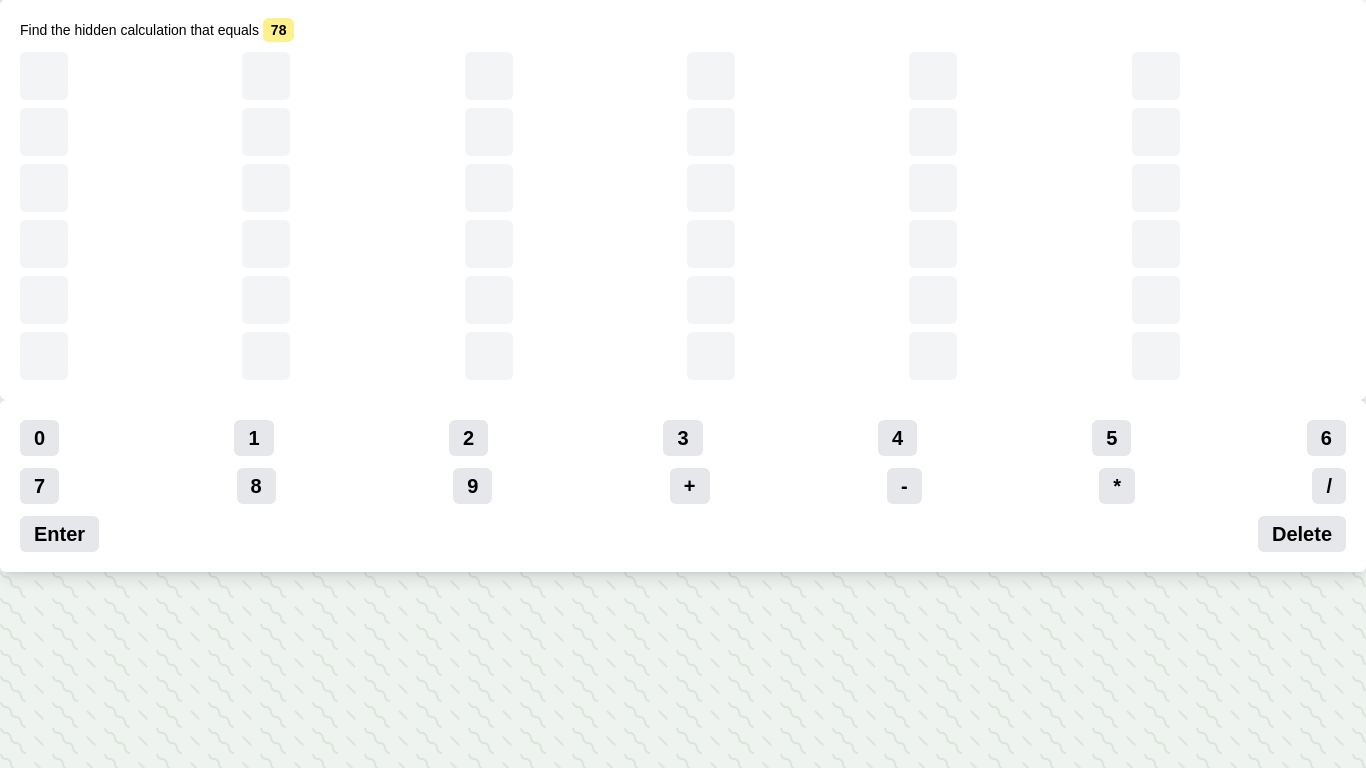
Scenario: MathInputGrid › responds to button clicks
Click the button with test id "input-button-1" at (254, 438), box [234,420,274,456]
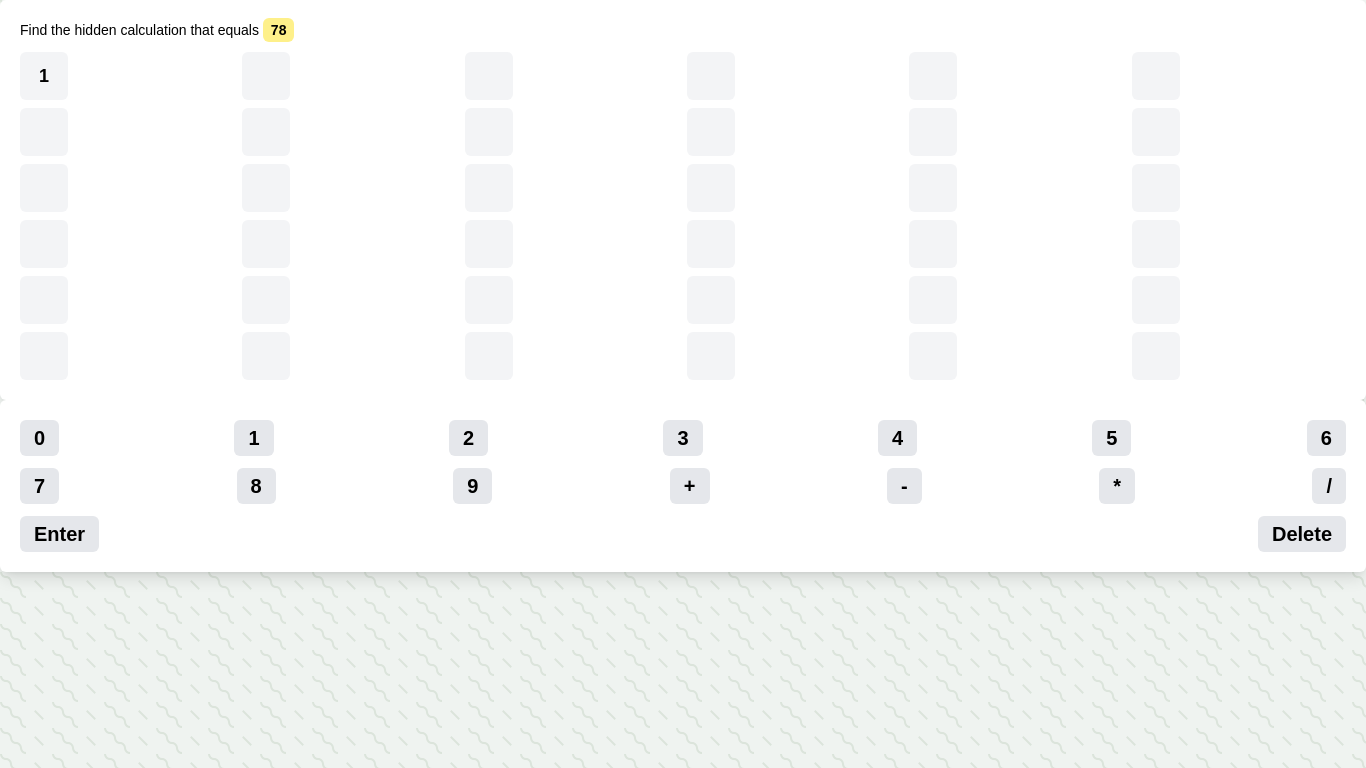
Click the button with test id "input-button-+" at (690, 486), box [670,468,710,504]
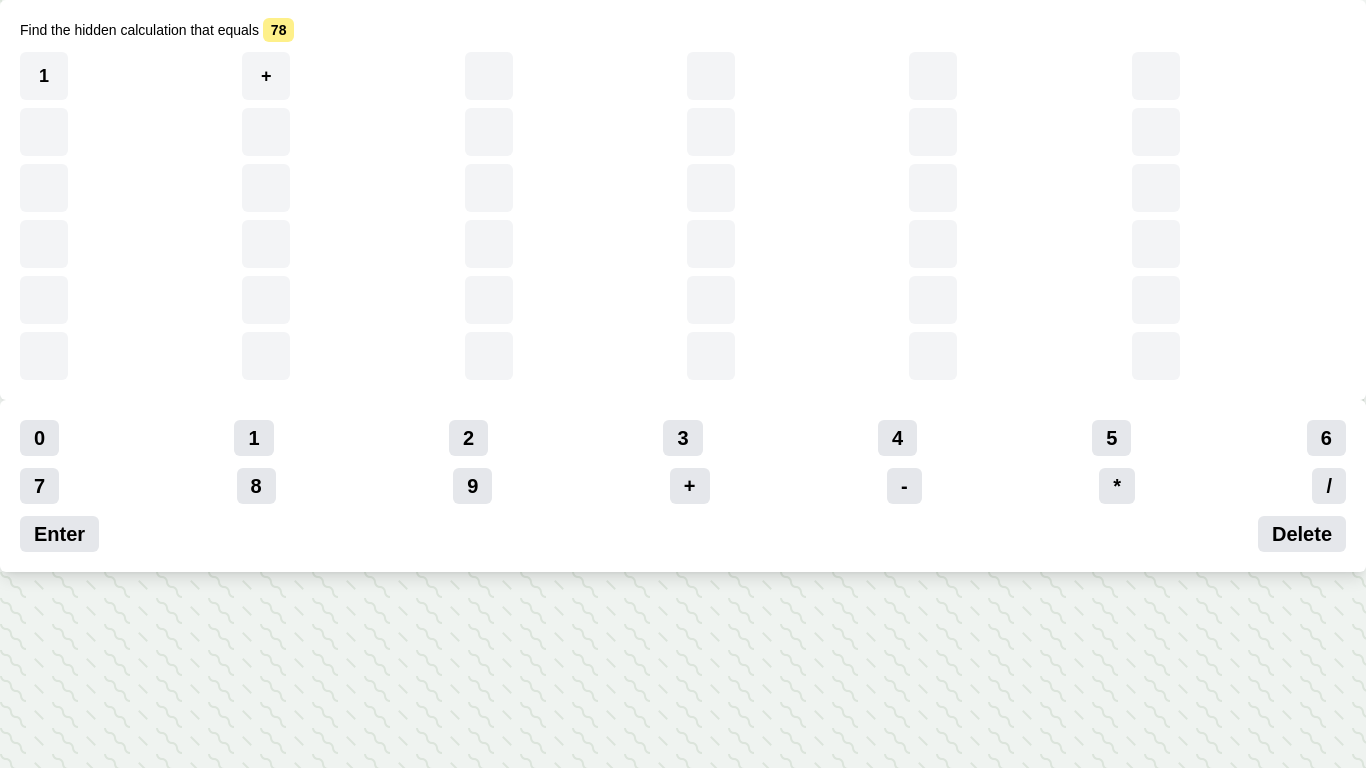
Expected: the element with test id "board-row-0" shows "1", [39,66,49,86]
Expected: the element with test id "board-row-0" shows "+", [261,66,272,86]
